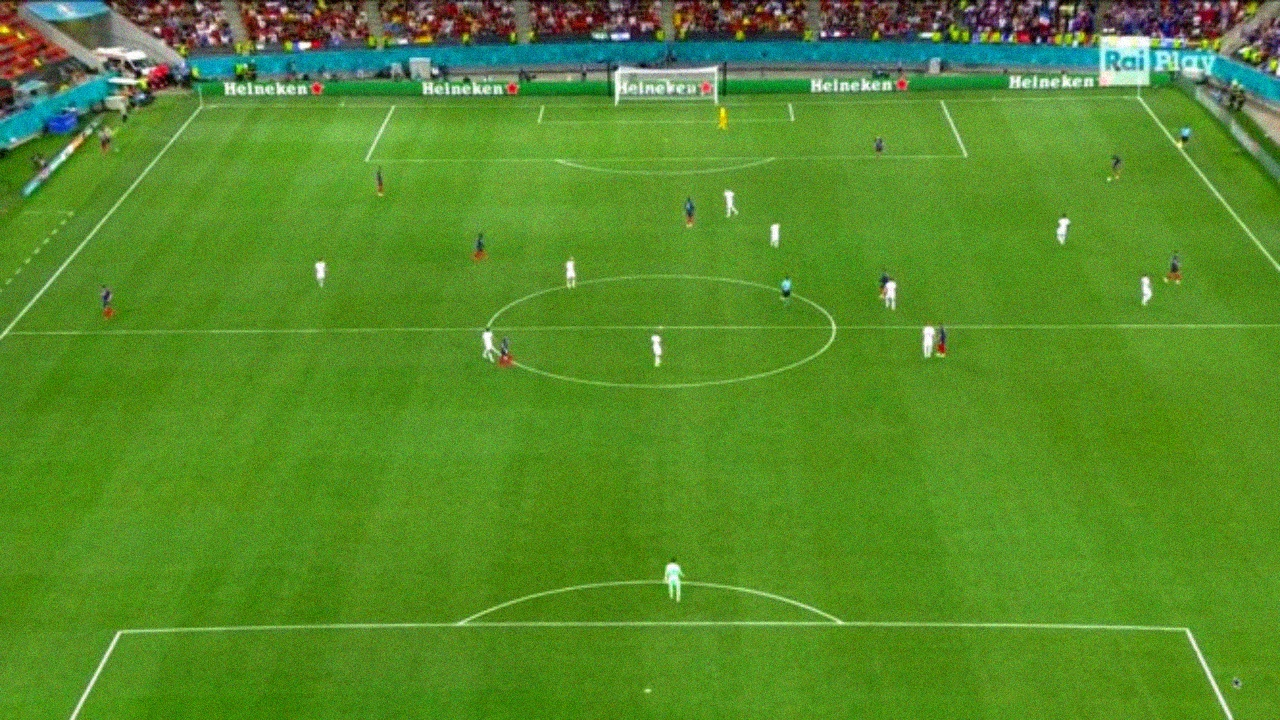ball: (1106, 176, 1112, 182)
goalkeeper: (664, 558, 685, 604), (716, 103, 727, 132)
player: (1162, 249, 1182, 285), (479, 327, 498, 364), (920, 320, 936, 361), (880, 277, 898, 312), (498, 334, 515, 370), (649, 328, 664, 368), (1054, 213, 1071, 248), (722, 186, 739, 220), (98, 285, 114, 321), (313, 256, 329, 289), (471, 232, 488, 262), (682, 196, 697, 229), (934, 321, 947, 358), (1140, 273, 1154, 307), (565, 255, 578, 290), (875, 268, 889, 299), (872, 133, 885, 164), (375, 164, 386, 197), (769, 220, 781, 250), (1110, 151, 1121, 180)
referee: (778, 275, 794, 310), (1176, 124, 1191, 150)
